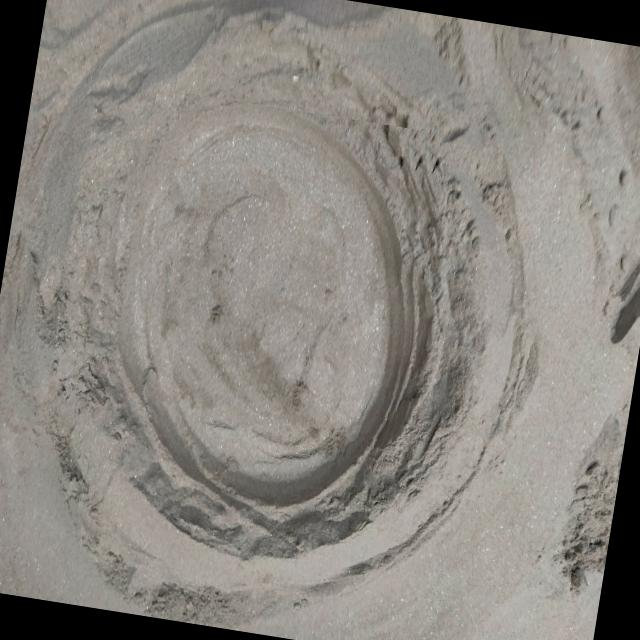C40: (119, 104, 407, 505)
